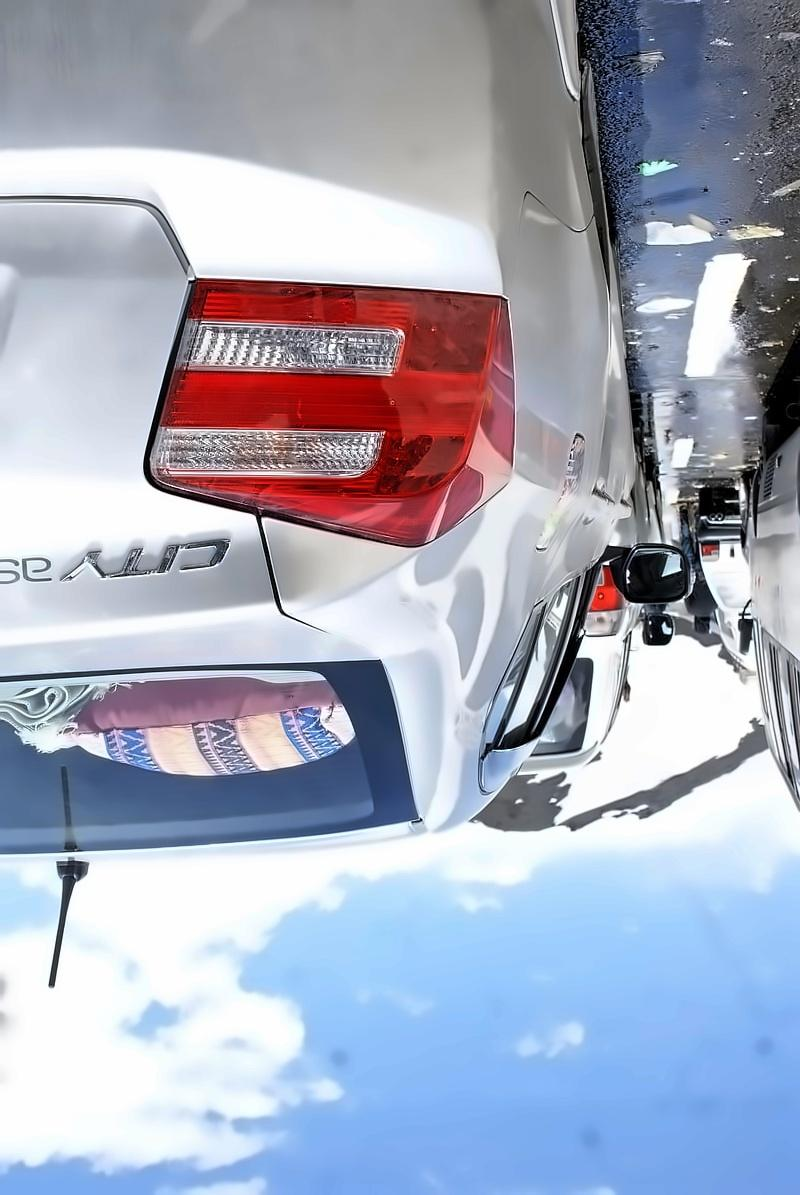Car boot: (0, 187, 353, 673)
Fender - -R-L-: (256, 134, 620, 715)
Rear bumper: (0, 0, 620, 247)
Rear light - -L-: (117, 255, 554, 574)
Side mirror - -L-: (595, 525, 724, 660)
